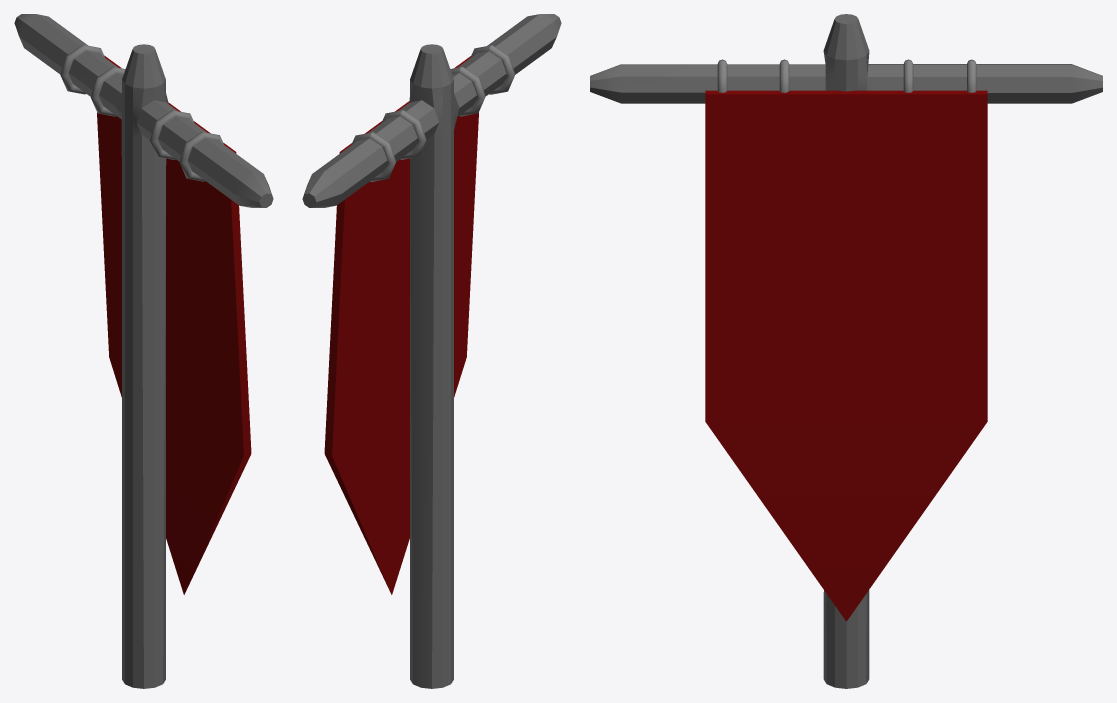
The model's file is NewBanner_Point.fbx.
3 views of the same model, side by side, from view 1: azimuth 30°, elevation 25°; view 2: azimuth 150°, elevation 25°; view 3: azimuth 270°, elevation 25° (orthographic). The views are drawn at different scales.
Visible parts, largest first — view 1: pCylinder1, pCube1, polySurface4, polySurface2, polySurface5, polySurface3; view 2: pCylinder1, pCube1, polySurface3, polySurface5, polySurface2, polySurface4; view 3: pCube1, pCylinder1.
Part boxes in pixels (box(x1,y1,x2,y2)): pCylinder1: box(14, 14, 273, 688); pCube1: box(97, 55, 251, 594); polySurface4: box(149, 110, 194, 159); polySurface2: box(60, 45, 104, 94); polySurface5: box(179, 132, 223, 181); polySurface3: box(90, 67, 125, 116); pCylinder1: box(302, 14, 561, 688); pCube1: box(324, 56, 478, 594); polySurface3: box(381, 110, 426, 159); polySurface5: box(470, 45, 515, 94); polySurface2: box(351, 132, 396, 181); polySurface4: box(450, 67, 485, 116); pCube1: box(705, 90, 987, 621); pCylinder1: box(590, 14, 1102, 688).
Bounding box in the file's own units: 2.48 × 23.43 × 16.5.
